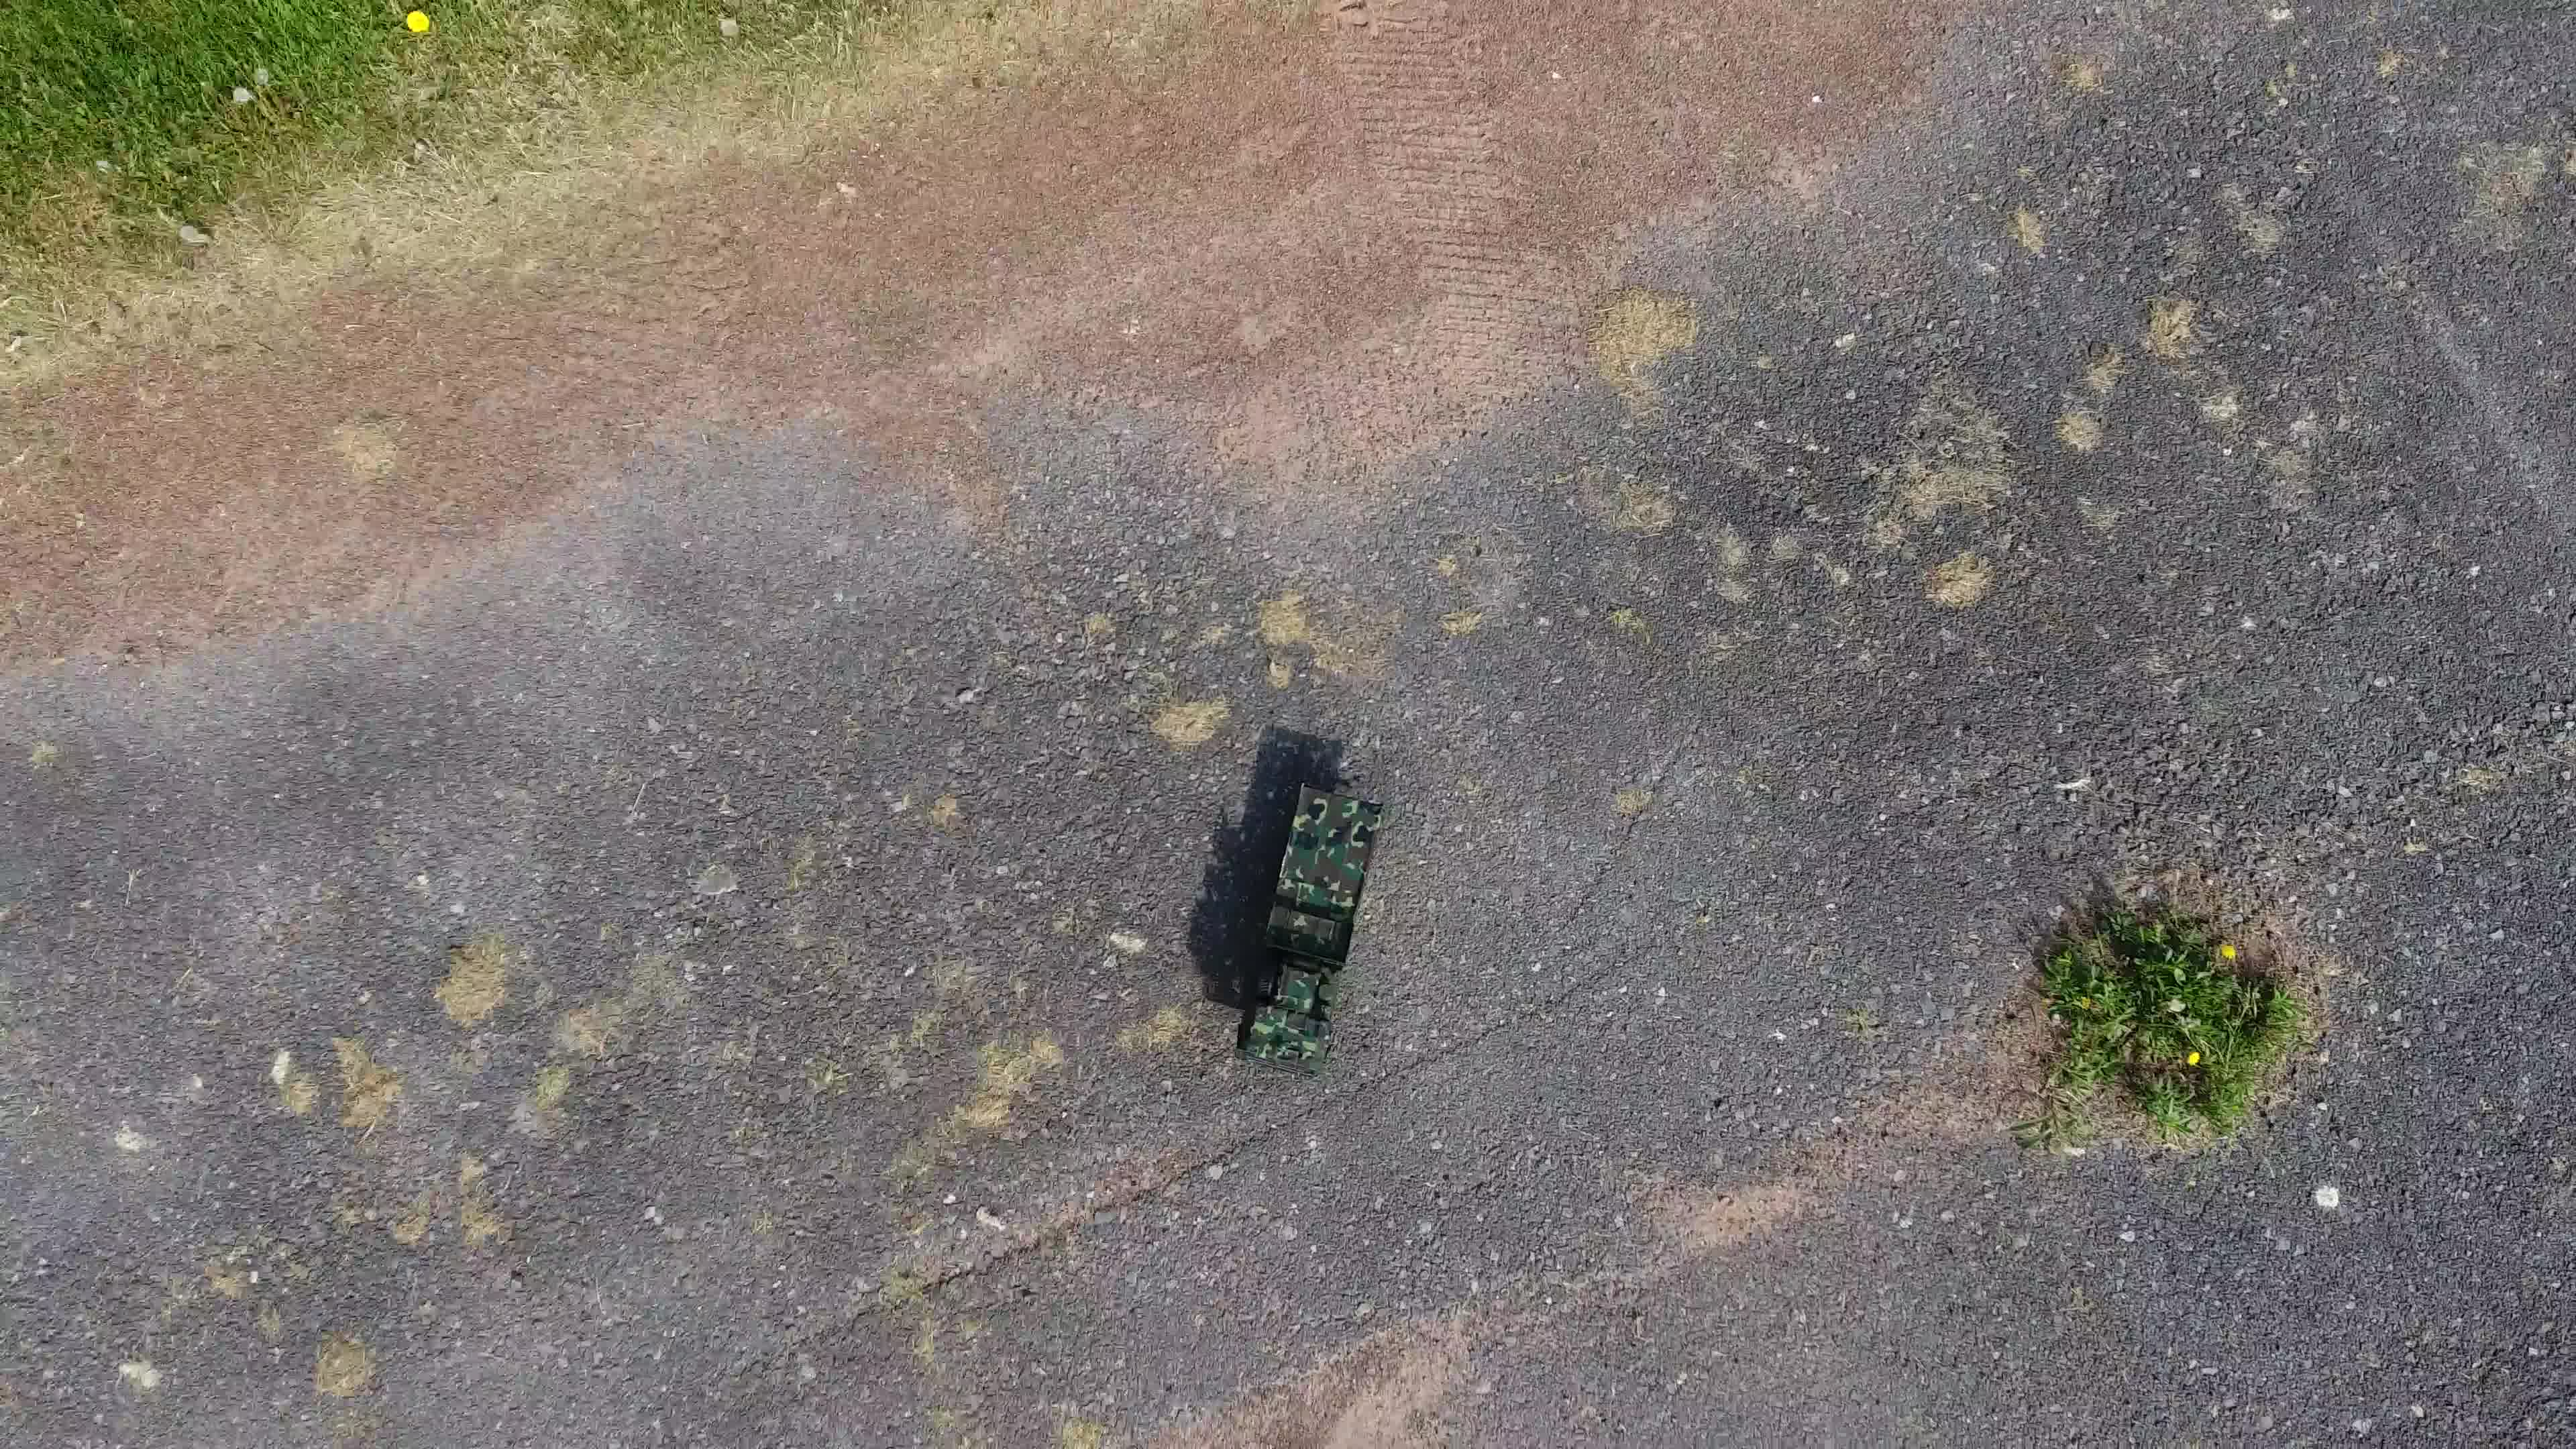transporter9_camo: (1217, 775, 1391, 1083)
